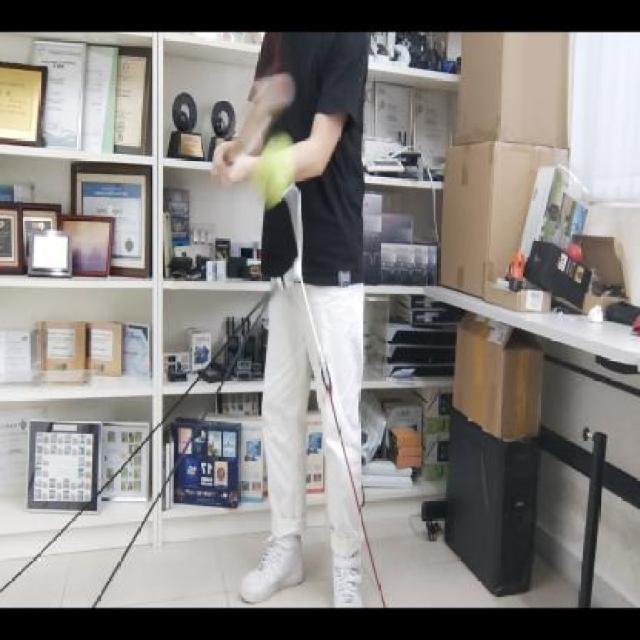baseball: (256, 133, 302, 205)
